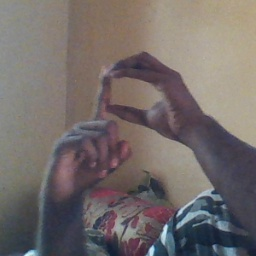P: (54, 50, 196, 180)
